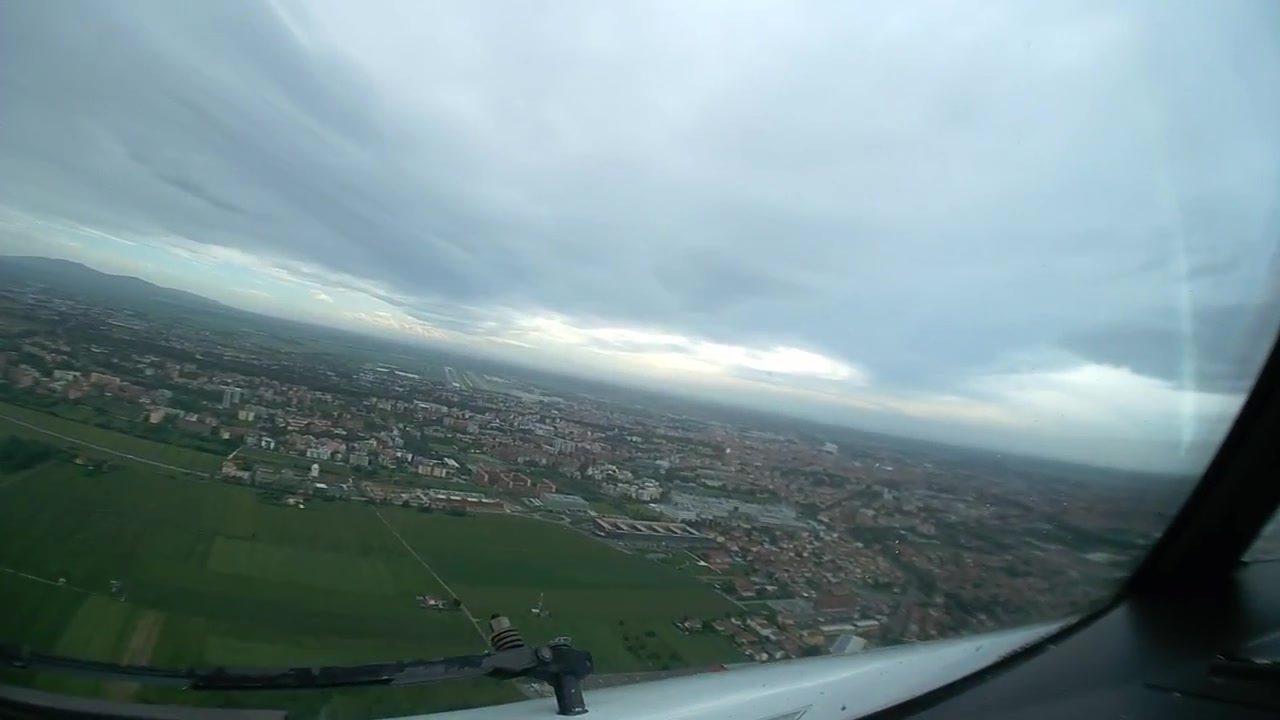runway: (443, 366, 464, 388)
